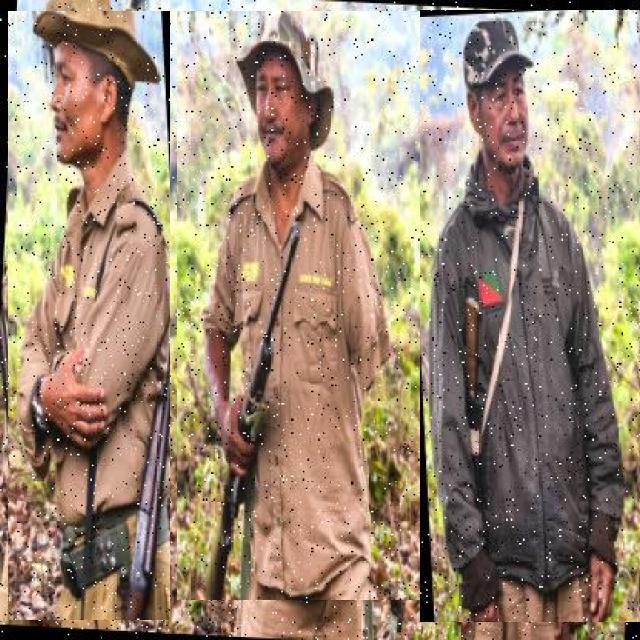poacher: (177, 11, 435, 600), (420, 10, 640, 622), (8, 11, 170, 620)
weapon: (303, 228, 426, 612)
